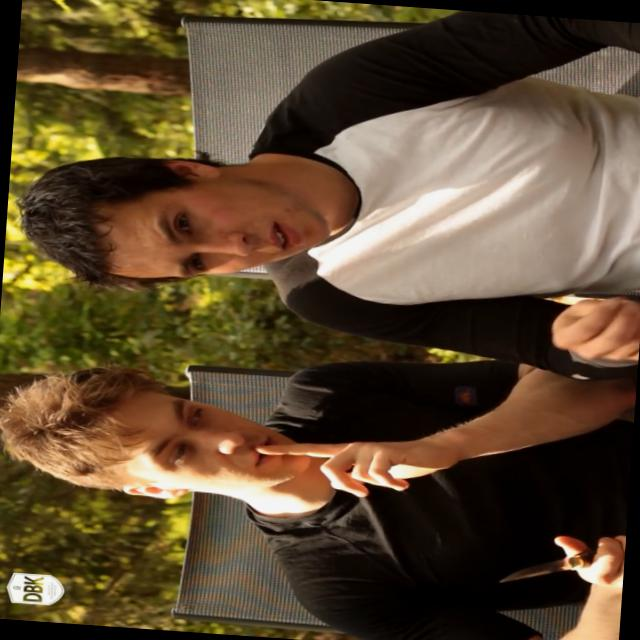knife: (484, 520, 625, 598)
